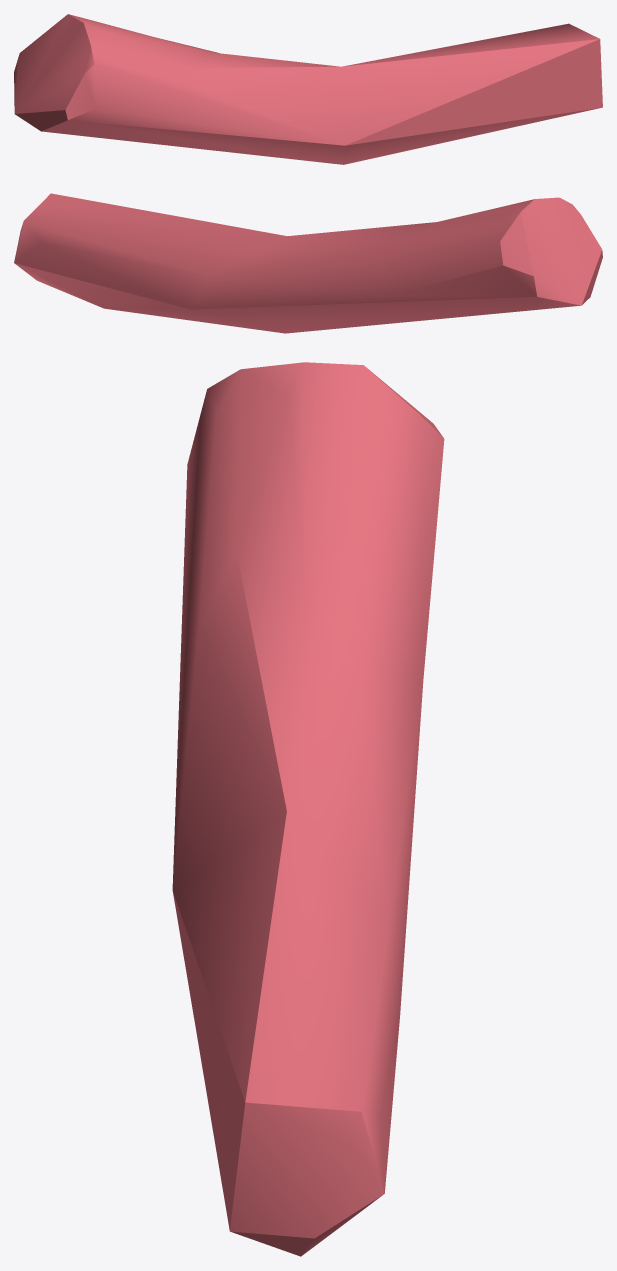
The model's file is fma8620_fj6046.glb.
The picture shows the model from 3 angles, top to bottom: view 1: azimuth 30°, elevation 25°; view 2: azimuth 150°, elevation 25°; view 3: azimuth 270°, elevation 25°; orthographic projection. The views are drawn at different scales.
Visible parts, largest first — view 1: FMA8620_FJ6046; view 2: FMA8620_FJ6046; view 3: FMA8620_FJ6046.
Part boxes in pixels (left/top/right/bottom): FMA8620_FJ6046: left=14, top=14, right=602, bottom=164; FMA8620_FJ6046: left=14, top=193, right=602, bottom=333; FMA8620_FJ6046: left=172, top=362, right=444, bottom=1256.
Size of the model in its own units: 0.0127 by 0.00439 by 0.00265.
